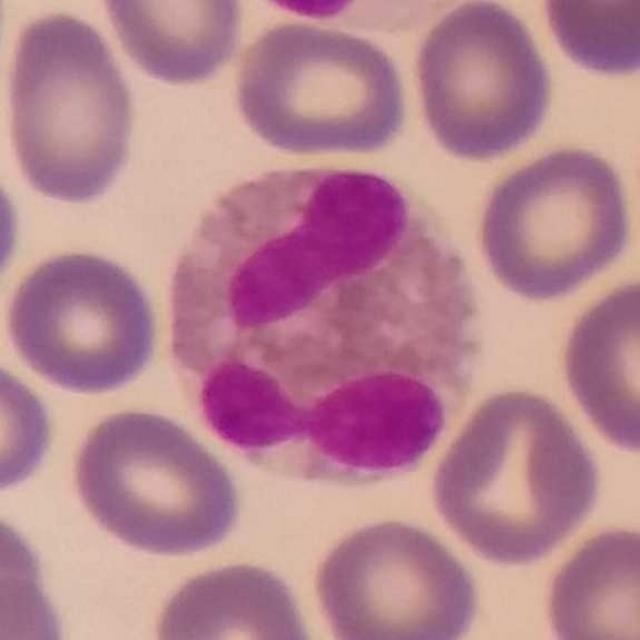Eosinophil: (153, 163, 494, 484), (232, 0, 381, 23)
RBC: (425, 382, 606, 568), (0, 3, 142, 210), (67, 403, 246, 561), (228, 16, 415, 162), (472, 140, 638, 303), (1, 243, 166, 397), (407, 0, 559, 165), (307, 513, 485, 640), (554, 271, 640, 458), (147, 555, 322, 640), (92, 0, 248, 89), (537, 520, 640, 640), (0, 350, 59, 500), (535, 0, 639, 82), (0, 505, 53, 636), (4, 569, 77, 640), (0, 157, 24, 305)
